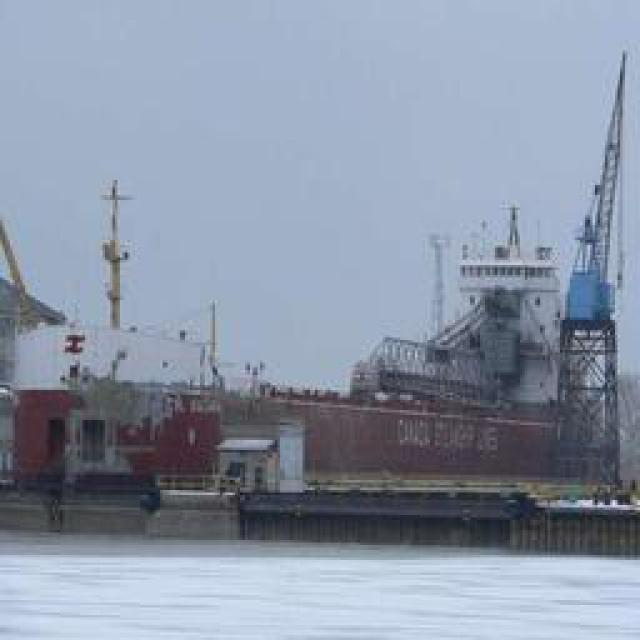Ship: (10, 171, 630, 501)
